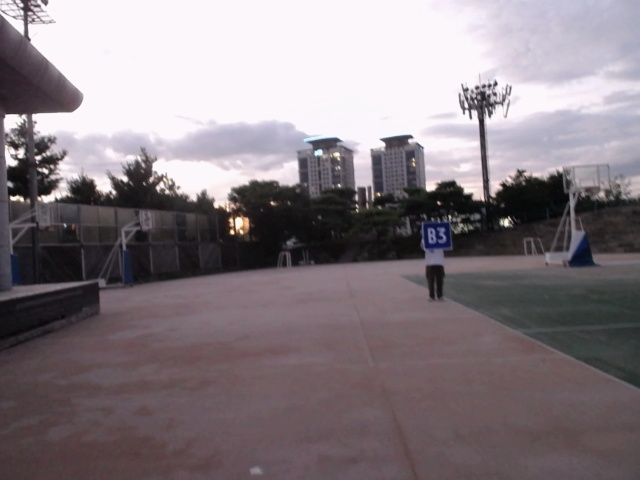delivery_b3: (421, 221, 453, 250)
